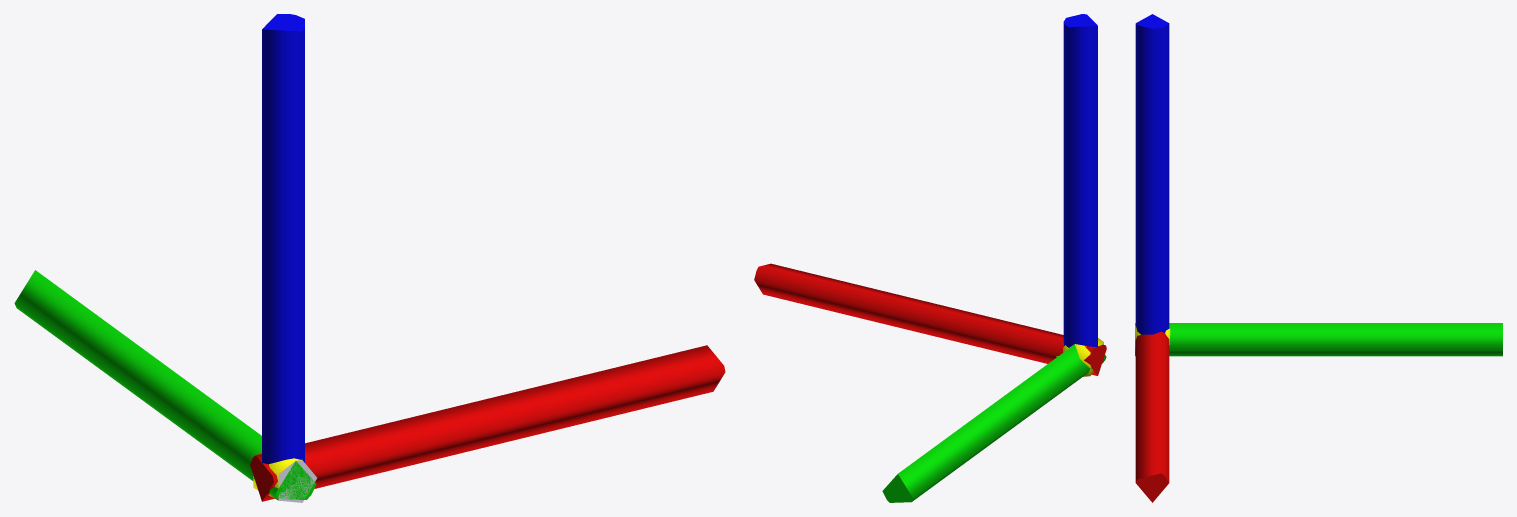
Rendered from axis.dae.
3 views of the same model, side by side, from view 1: azimuth 30°, elevation 25°; view 2: azimuth 150°, elevation 25°; view 3: azimuth 270°, elevation 25° (orthographic). The views are drawn at different scales.
Parts seen in each view (by area): view 1: mesh_3_Boss-Extrude3_001, mesh_5_Boss-Extrude1_001, mesh_4_Boss-Extrude2_001, mesh_2_Revolve1_001; view 2: mesh_5_Boss-Extrude1_001, mesh_3_Boss-Extrude3_001, mesh_4_Boss-Extrude2_001; view 3: mesh_4_Boss-Extrude2_001, mesh_5_Boss-Extrude1_001, mesh_3_Boss-Extrude3_001.
Part boxes in pixels (left/top/right/bottom): mesh_3_Boss-Extrude3_001: left=250, top=345, right=725, bottom=501; mesh_5_Boss-Extrude1_001: left=262, top=14, right=304, bottom=464; mesh_4_Boss-Extrude2_001: left=14, top=270, right=316, bottom=499; mesh_2_Revolve1_001: left=278, top=460, right=316, bottom=502; mesh_5_Boss-Extrude1_001: left=1063, top=14, right=1097, bottom=347; mesh_3_Boss-Extrude3_001: left=754, top=263, right=1106, bottom=375; mesh_4_Boss-Extrude2_001: left=882, top=344, right=1106, bottom=502; mesh_4_Boss-Extrude2_001: left=1135, top=323, right=1502, bottom=356; mesh_5_Boss-Extrude1_001: left=1135, top=14, right=1169, bottom=334; mesh_3_Boss-Extrude3_001: left=1135, top=331, right=1169, bottom=502.
Size of the model in its own units: 0.0105 by 0.0105 by 0.0106.
